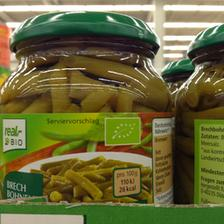Bohnen: (3, 10, 177, 206)
